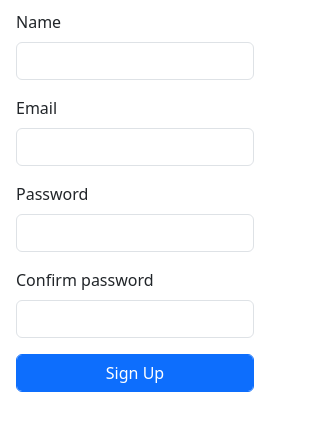
it: SignupPageComponent › when user interact with name field › should display error message when field is empty
The width and height of the screenshot is (320, 434).
Clear the field with test id "name" at (135, 61), box [16,42,254,80]
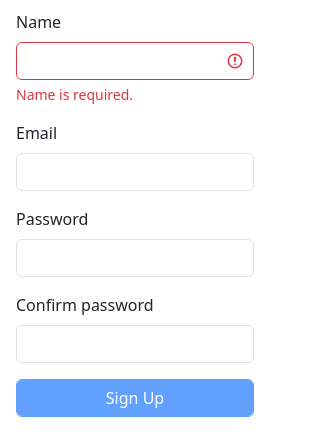
Expected: the text with test id "error-name-required" reads "Name is required.", [16,85,133,104]
